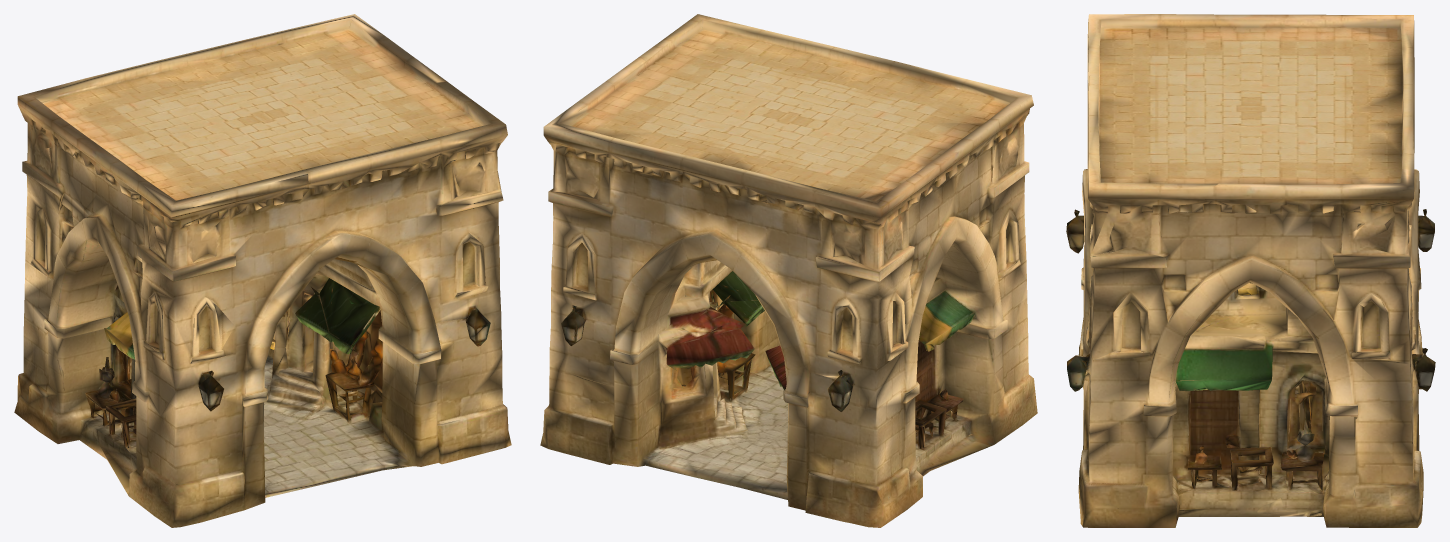
The model's file is city_gaziantep_bazaar_gate.glb.
The picture shows the model from 3 angles, left to right: view 1: azimuth 30°, elevation 25°; view 2: azimuth 150°, elevation 25°; view 3: azimuth 270°, elevation 25°; orthographic projection. The views are drawn at different scales.
Visible parts, largest first — view 1: Mesh1.0; view 2: Mesh1.0; view 3: Mesh1.0.
Boxes of the visible parts, box(x1,y1,x2,y2) form: Mesh1.0: box(14, 14, 511, 527); Mesh1.0: box(540, 14, 1037, 527); Mesh1.0: box(1066, 14, 1435, 527).
Bounding box in the file's own units: 6.72 × 6 × 5.9.
1 material, 1 textured.
